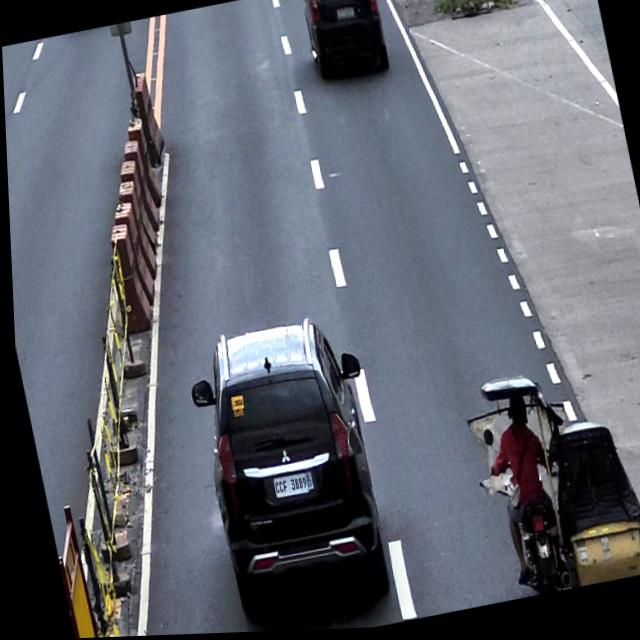Car: (176, 309, 402, 627), (297, 0, 390, 86)
License-Plate: (266, 470, 311, 503), (335, 7, 357, 25)
Tricycle: (458, 354, 640, 605)
